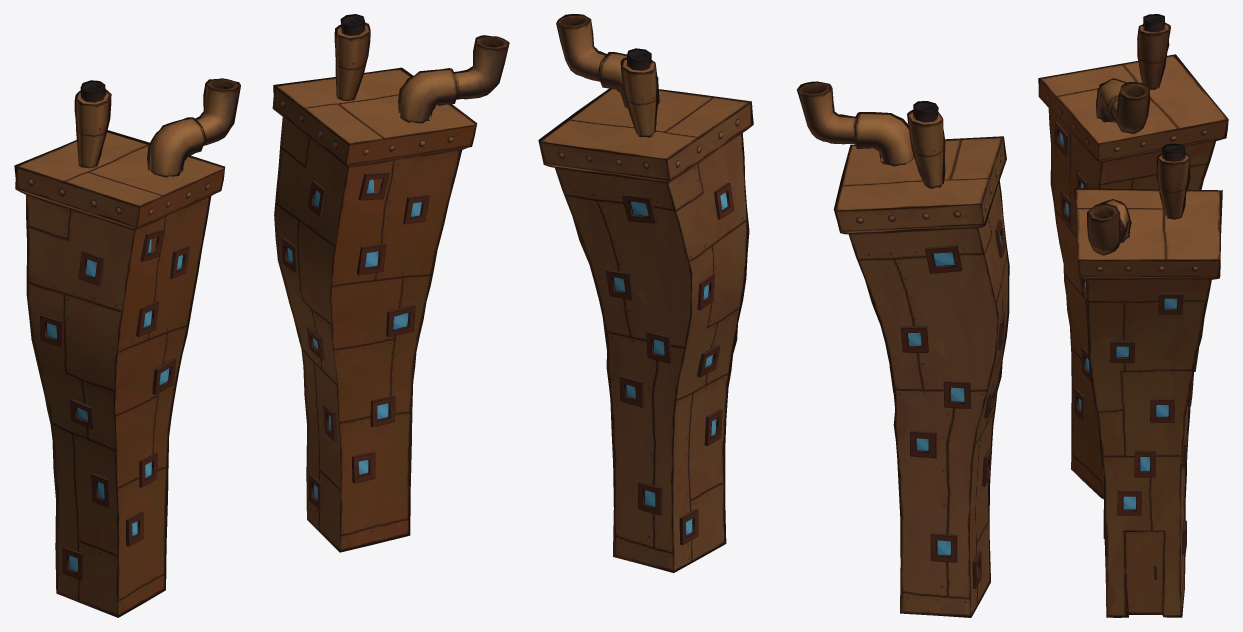
3 renders of one model, left to right at view 1: azimuth 30°, elevation 25°; view 2: azimuth 150°, elevation 25°; view 3: azimuth 270°, elevation 25°, orthographic. The views are drawn at different scales.
Visible parts, largest first — view 1: Object_17; view 2: Object_17; view 3: Object_17.
Boxes of the visible parts, box(x1,y1,x2,y2) form: Object_17: box(14, 14, 509, 617); Object_17: box(538, 14, 1009, 617); Object_17: box(1038, 14, 1228, 617).
Size of the model in its own units: 65.66 by 69.08 by 25.48.
Materials: 1 (1 with a texture image).
